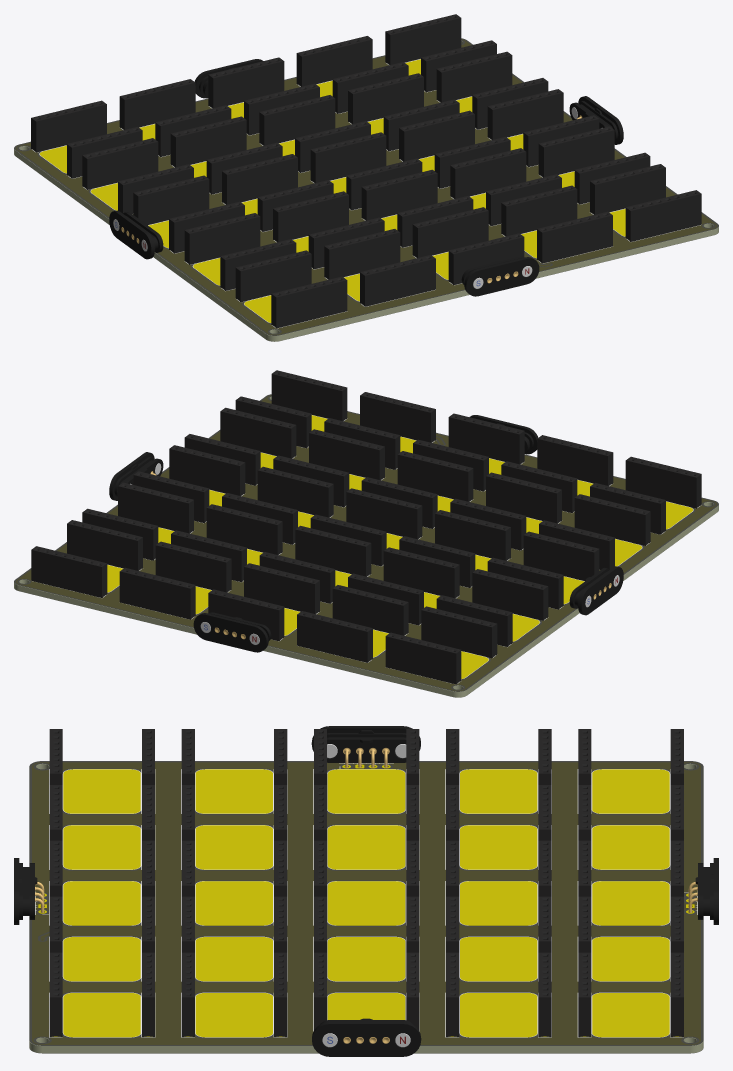
Rendered from 5x5-stackable-minibadge-display.glb.
3 views of the same model, one above another, from view 1: azimuth 30°, elevation 25°; view 2: azimuth 150°, elevation 25°; view 3: azimuth 270°, elevation 25° (orthographic). The views are drawn at different scales.
Parts seen in each view (by area): view 1: =>[0:1:1:4], =>[0:1:1:6], MB22 (×2), MB25 (×2), MB1 (×2), MB23 (×2), MB24 (×2), =>[0:1:1:7], MB17 (×2), MB2 (×2), MB7 (×2), MB4 (×2) (+21 smaller); view 2: =>[0:1:1:4], =>[0:1:1:6], MB2 (×2), MB5 (×2), MB3 (×2), MB6 (×2), MB4 (×2), =>[0:1:1:7], MB7 (×2), MB22 (×2), MB17 (×2), MB8 (×2) (+21 smaller); view 3: =>[0:1:1:4], =>[0:1:1:6], =>[0:1:1:5], =>[0:1:1:7], J2, J4, MB11 (×2), MB6 (×2), MB21 (×2), MB1 (×2), MB16 (×2), MB9 (×2) (+21 smaller).
Boxes of the visible parts, x1,y1,x2,y2 form: =>[0:1:1:4]: [16, 41, 716, 333]; =>[0:1:1:6]: [14, 38, 718, 341]; MB22 (×2): [235, 250, 347, 328]; MB25 (×2): [501, 185, 612, 263]; MB1 (×2): [590, 164, 701, 241]; MB23 (×2): [324, 229, 435, 306]; MB24 (×2): [412, 207, 524, 285]; =>[0:1:1:7]: [14, 40, 718, 341]; MB17 (×2): [184, 213, 296, 290]; MB2 (×2): [31, 100, 142, 178]; MB7 (×2): [82, 138, 193, 213]; MB4 (×2): [208, 57, 319, 135]; =>[0:1:1:4]: [16, 396, 716, 689]; =>[0:1:1:6]: [14, 394, 718, 697]; MB2 (×2): [385, 606, 497, 684]; MB5 (×2): [119, 541, 231, 619]; MB3 (×2): [297, 585, 408, 662]; MB6 (×2): [31, 520, 142, 597]; MB4 (×2): [208, 563, 319, 640]; =>[0:1:1:7]: [14, 395, 718, 697]; MB7 (×2): [436, 569, 548, 646]; MB22 (×2): [590, 456, 701, 534]; MB17 (×2): [539, 494, 650, 569]; MB8 (×2): [348, 547, 459, 625]; =>[0:1:1:4]: [32, 763, 700, 1044]; =>[0:1:1:6]: [29, 761, 703, 1053]; =>[0:1:1:5]: [35, 763, 697, 1037]; =>[0:1:1:7]: [29, 762, 703, 1053]; J2: [312, 1018, 421, 1056]; J4: [311, 726, 420, 767]; MB11 (×2): [446, 952, 551, 1037]; MB6 (×2): [578, 952, 683, 1037]; MB21 (×2): [181, 952, 287, 1037]; MB1 (×2): [49, 952, 154, 1037]; MB16 (×2): [314, 952, 419, 1030]; MB9 (×2): [446, 840, 551, 896].
Size of the model in its own units: 0.1355 by 0.0116 by 0.1355.
